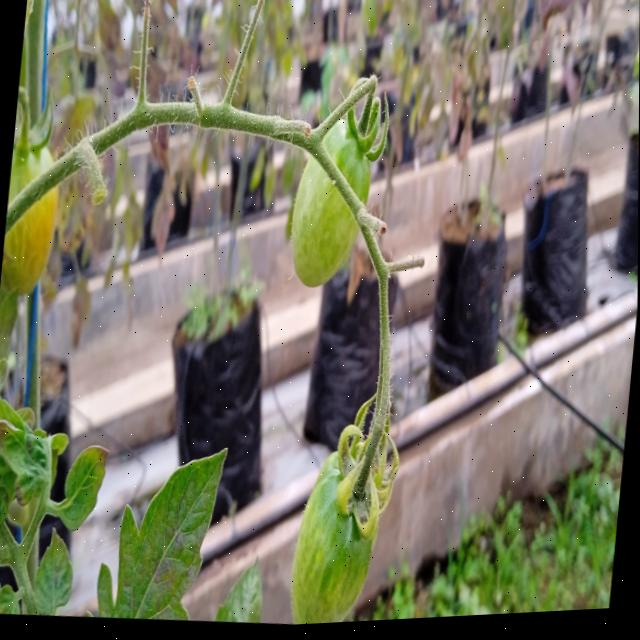fine: (1, 120, 70, 286)
unripe: (285, 387, 392, 628), (272, 86, 376, 310)
